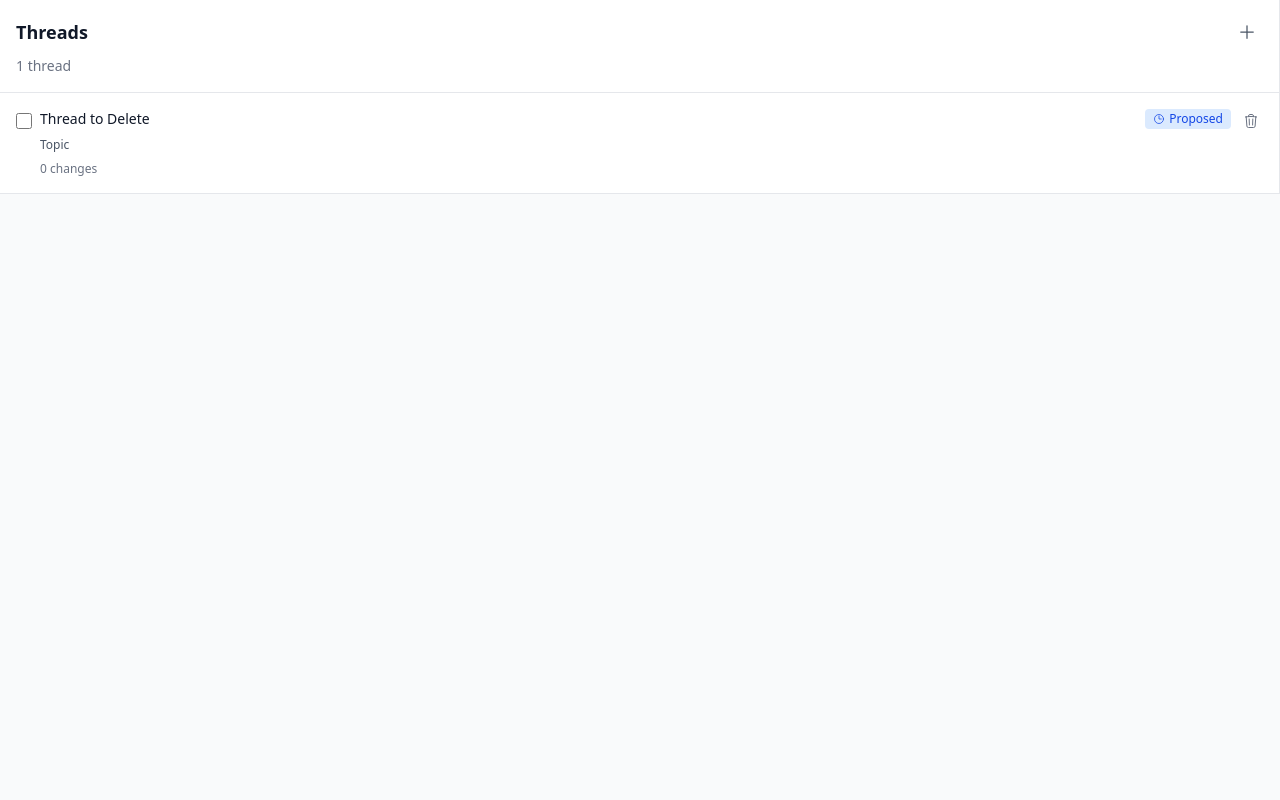
Scenario: ThreadListPanel › opens delete confirmation dialog when delete button is clicked
Click the button titled "Delete thread" at (1251, 121), box [1239, 109, 1263, 133]
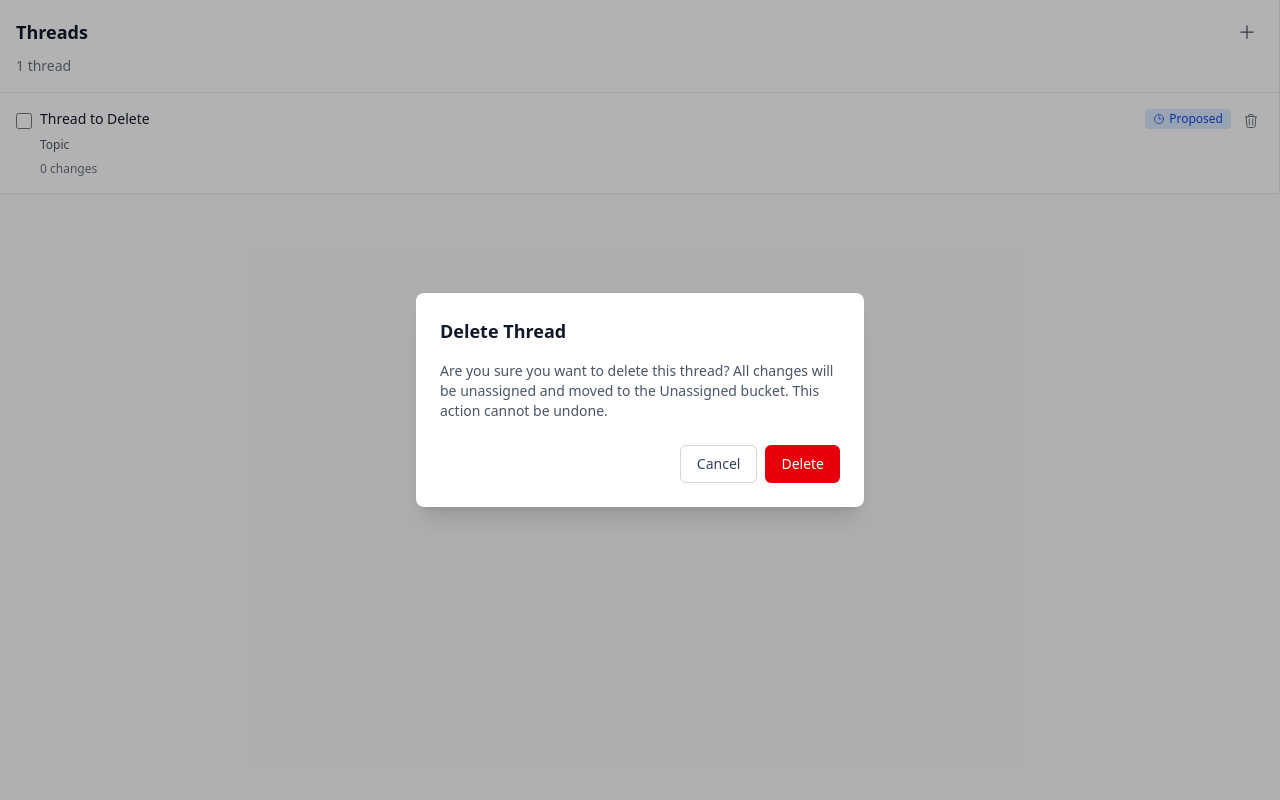
Check: the heading "Delete Thread" is shown, box [440, 319, 566, 343]
Check: the text "Are you sure you want to delete this thread?" is shown, box [440, 361, 834, 420]
